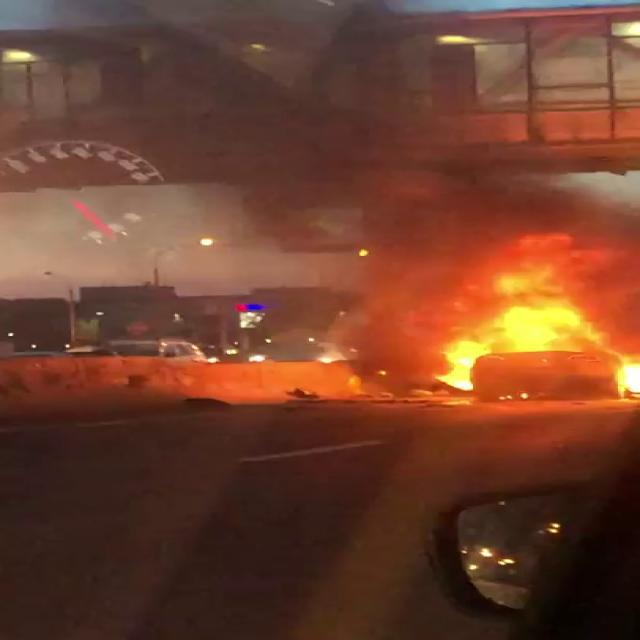Fire: (424, 243, 640, 400), (610, 348, 640, 403)
Smoke: (3, 0, 632, 284)
